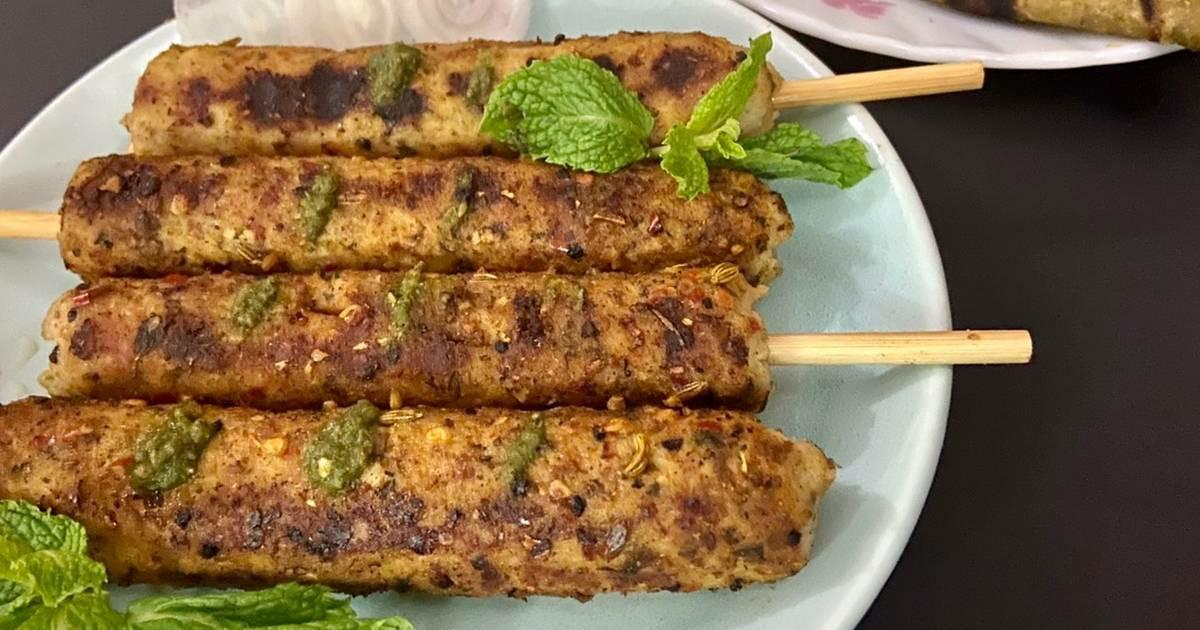Kebab: (0, 396, 837, 600), (39, 270, 770, 414), (58, 154, 793, 285), (122, 30, 785, 164)
